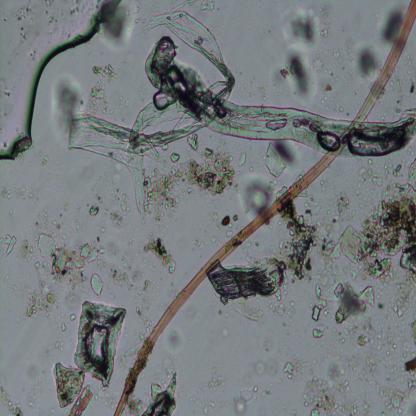Air bubble: (0, 1, 118, 161)
Background material: (325, 159, 416, 309), (52, 293, 128, 415), (22, 230, 108, 320), (142, 139, 230, 220), (216, 256, 288, 322), (284, 202, 337, 278), (299, 359, 362, 415), (276, 44, 317, 105), (331, 278, 377, 330), (97, 0, 137, 52), (52, 74, 83, 137), (142, 369, 180, 415), (83, 60, 114, 114), (141, 234, 178, 276), (236, 174, 272, 216), (263, 142, 299, 182), (285, 10, 321, 48), (377, 378, 416, 412), (109, 261, 149, 294), (354, 39, 380, 81), (312, 285, 331, 339), (232, 383, 258, 414), (283, 353, 307, 380), (164, 326, 187, 354), (382, 10, 402, 42), (0, 386, 22, 415), (213, 212, 235, 239), (0, 184, 33, 200), (319, 11, 332, 41), (0, 234, 18, 254), (85, 203, 103, 222), (401, 356, 416, 374), (60, 322, 67, 331), (70, 313, 76, 321)
Cellulose filter fibre: (70, 13, 416, 196)
Microfibre: (113, 0, 416, 415)
